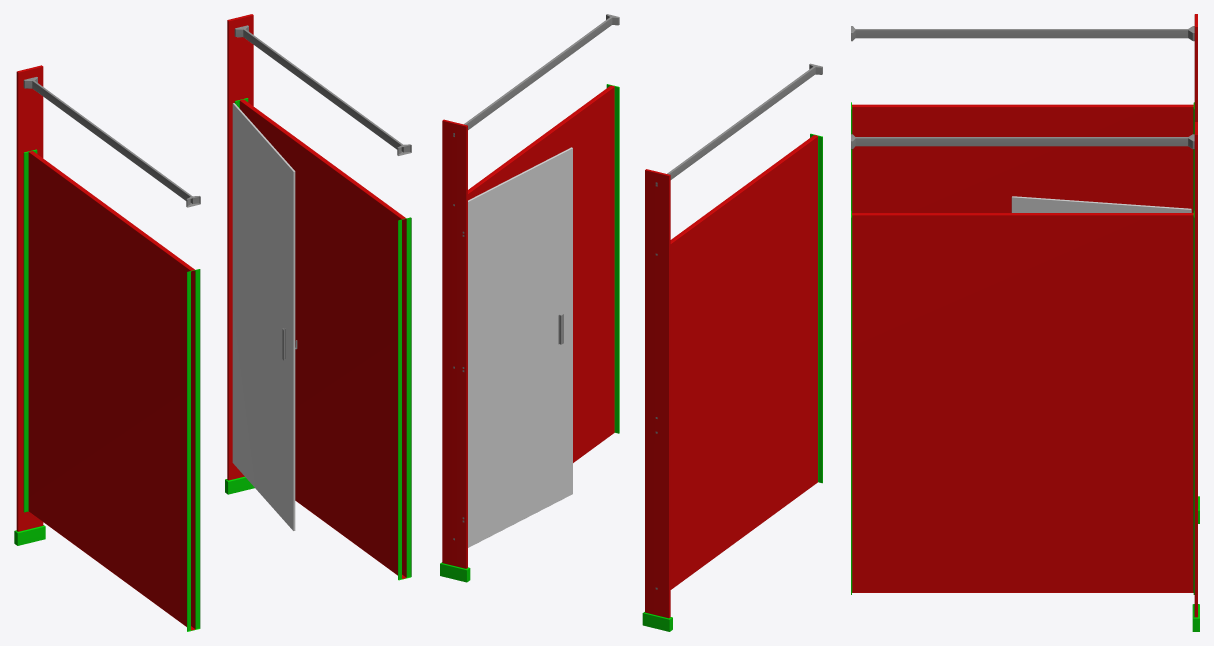
File: Toilet_Stall_Open.FBX
The picture shows the model from 3 angles, left to right: view 1: azimuth 30°, elevation 25°; view 2: azimuth 150°, elevation 25°; view 3: azimuth 270°, elevation 25°; orthographic projection. The views are drawn at different scales.
Visible parts, largest first — view 1: Box021, Box017, Box020, Box022, Box018, Box019, Box023; view 2: Box021, Box020, Box017, Box022, Box018, Box023, Box019; view 3: Box017, Box021, Box023, Box019, Box018, Box020, Box022.
Boxes of the visible parts, bbox=[...] form: Box021: bbox=[23, 149, 200, 631]; Box017: bbox=[234, 98, 411, 580]; Box020: bbox=[232, 103, 295, 531]; Box022: bbox=[14, 65, 45, 545]; Box018: bbox=[225, 14, 254, 494]; Box019: bbox=[234, 25, 411, 155]; Box023: bbox=[23, 77, 200, 207]; Box021: bbox=[670, 133, 822, 589]; Box020: bbox=[468, 147, 572, 547]; Box017: bbox=[468, 84, 619, 462]; Box022: bbox=[642, 169, 672, 631]; Box018: bbox=[440, 119, 470, 582]; Box023: bbox=[667, 63, 822, 179]; Box019: bbox=[464, 14, 619, 129]; Box017: bbox=[851, 210, 1194, 594]; Box021: bbox=[851, 102, 1194, 212]; Box023: bbox=[851, 26, 1194, 41]; Box019: bbox=[851, 134, 1194, 149]; Box018: bbox=[1192, 122, 1199, 631]; Box020: bbox=[1011, 196, 1191, 212]; Box022: bbox=[1194, 14, 1199, 523].
Size of what is drawn, in the model's own units: 33.7 by 63.77 by 40.62.
